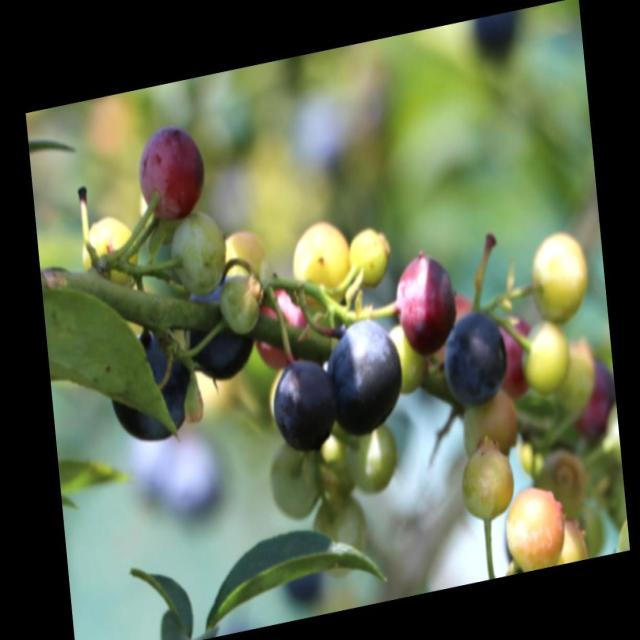blueberry: (323, 308, 407, 446), (103, 318, 190, 449), (182, 265, 258, 384), (268, 348, 344, 460), (439, 299, 512, 412)
blueberry-halfripe: (131, 112, 210, 221), (389, 247, 460, 356), (250, 278, 312, 378)
blueberry-unripe: (503, 475, 569, 574), (165, 205, 234, 299), (527, 228, 589, 323), (311, 495, 376, 584), (517, 308, 576, 406), (456, 430, 516, 526), (340, 414, 401, 506), (292, 211, 353, 300), (76, 208, 140, 289), (266, 441, 323, 524), (218, 225, 276, 297), (343, 223, 393, 293), (214, 264, 258, 339)
